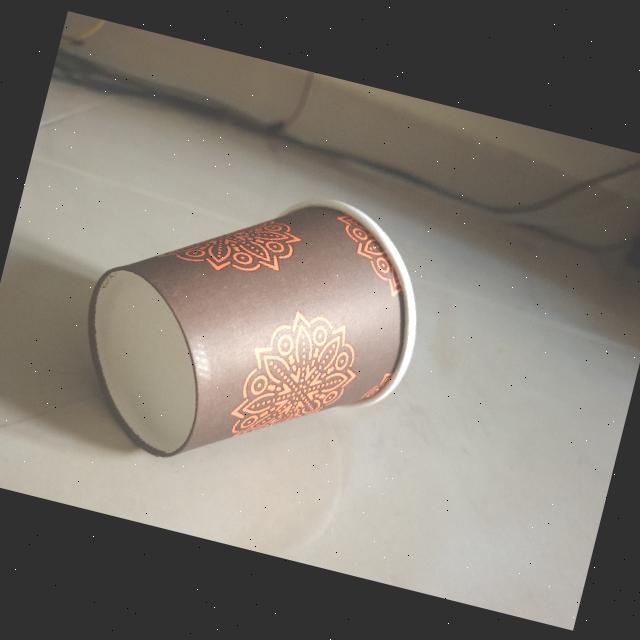trash: (47, 140, 451, 516)
